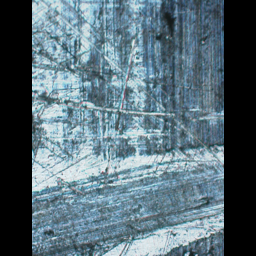d: (32, 2, 171, 255), (32, 140, 223, 256)
